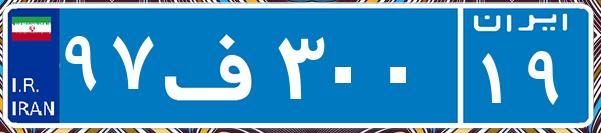0: (385, 28, 445, 110), (330, 28, 385, 110)
1: (475, 38, 525, 113)
3: (273, 28, 330, 110)
7: (110, 28, 158, 105)
9: (57, 26, 110, 107), (525, 38, 570, 115)
ف: (158, 15, 273, 115)
